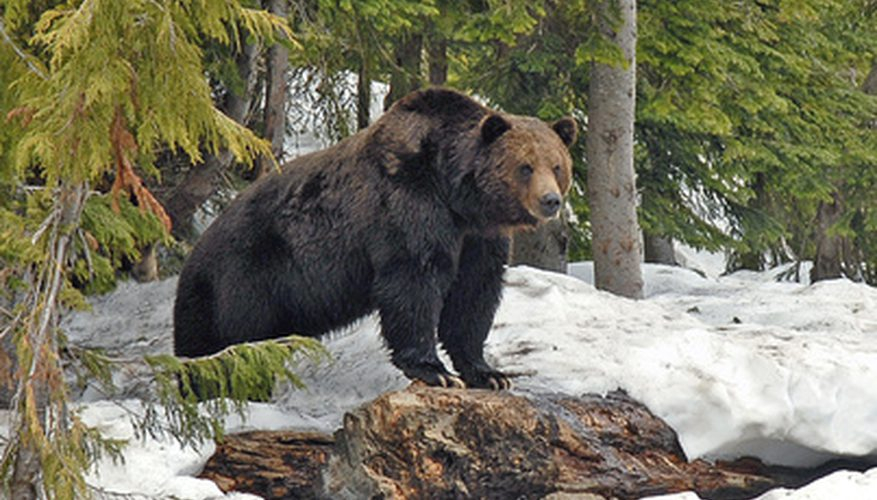bear: (469, 109, 579, 220)
